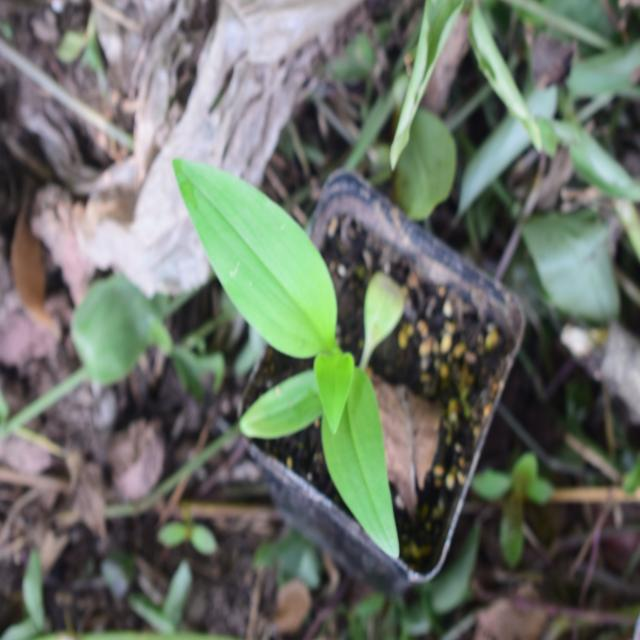Common Dayflower: (171, 158, 417, 547)
